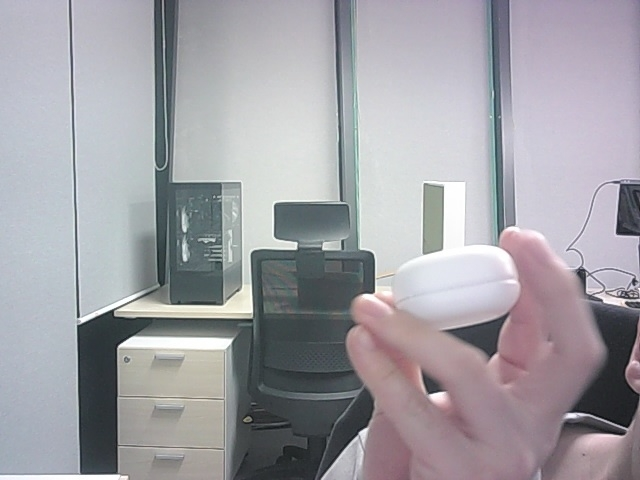case: (391, 245, 520, 329)
